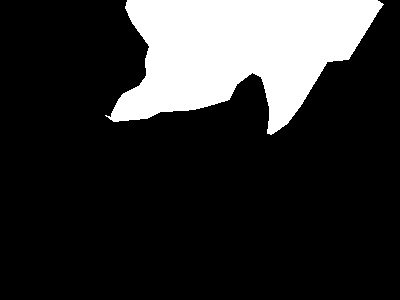Fire: (107, 1, 377, 128)
